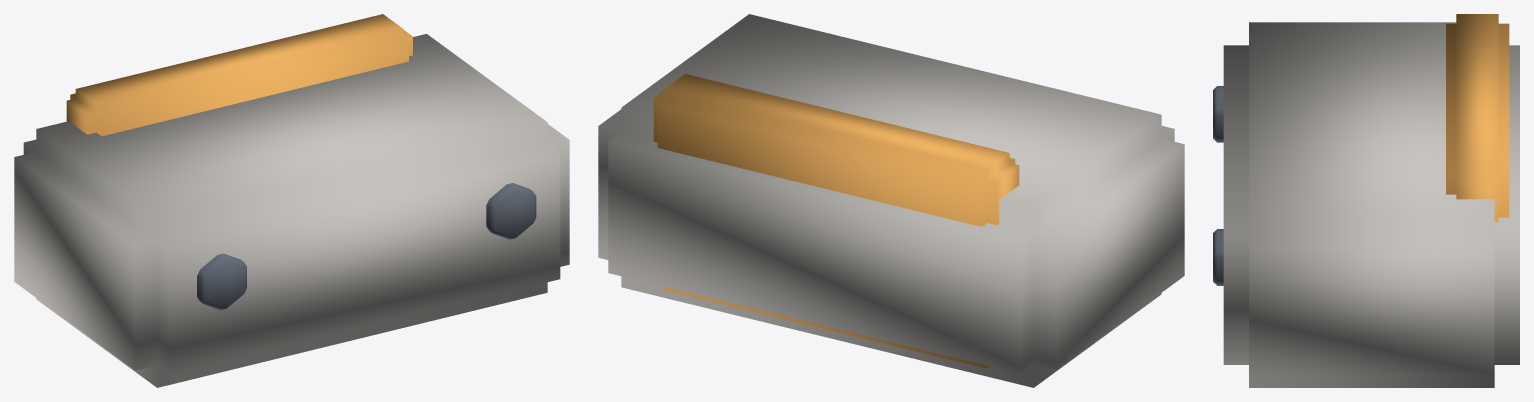
The model's file is armor_plate.glb.
3 views of the same model, side by side, from view 1: azimuth 30°, elevation 25°; view 2: azimuth 150°, elevation 25°; view 3: azimuth 270°, elevation 25° (orthographic). The views are drawn at different scales.
Visible parts, largest first — view 1: armor_plate; view 2: armor_plate; view 3: armor_plate.
Boxes of the visible parts, x1=… form: armor_plate: x1=14, y1=14, x2=569, y2=387; armor_plate: x1=598, y1=14, x2=1184, y2=387; armor_plate: x1=1213, y1=14, x2=1519, y2=387.
Size of the model in its own units: 0.24 by 0.105 by 0.145.
